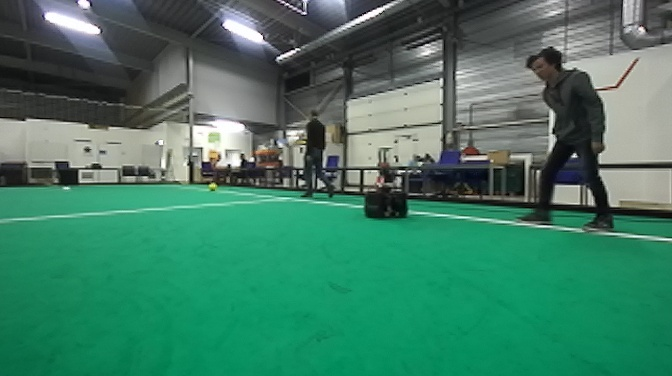ball: (207, 181, 219, 193)
human: (512, 36, 611, 232), (300, 106, 331, 201)
robot: (358, 138, 412, 223)
